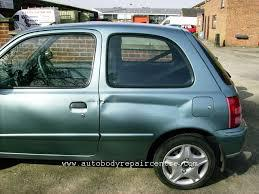doorouter-dent: (101, 91, 195, 152)
